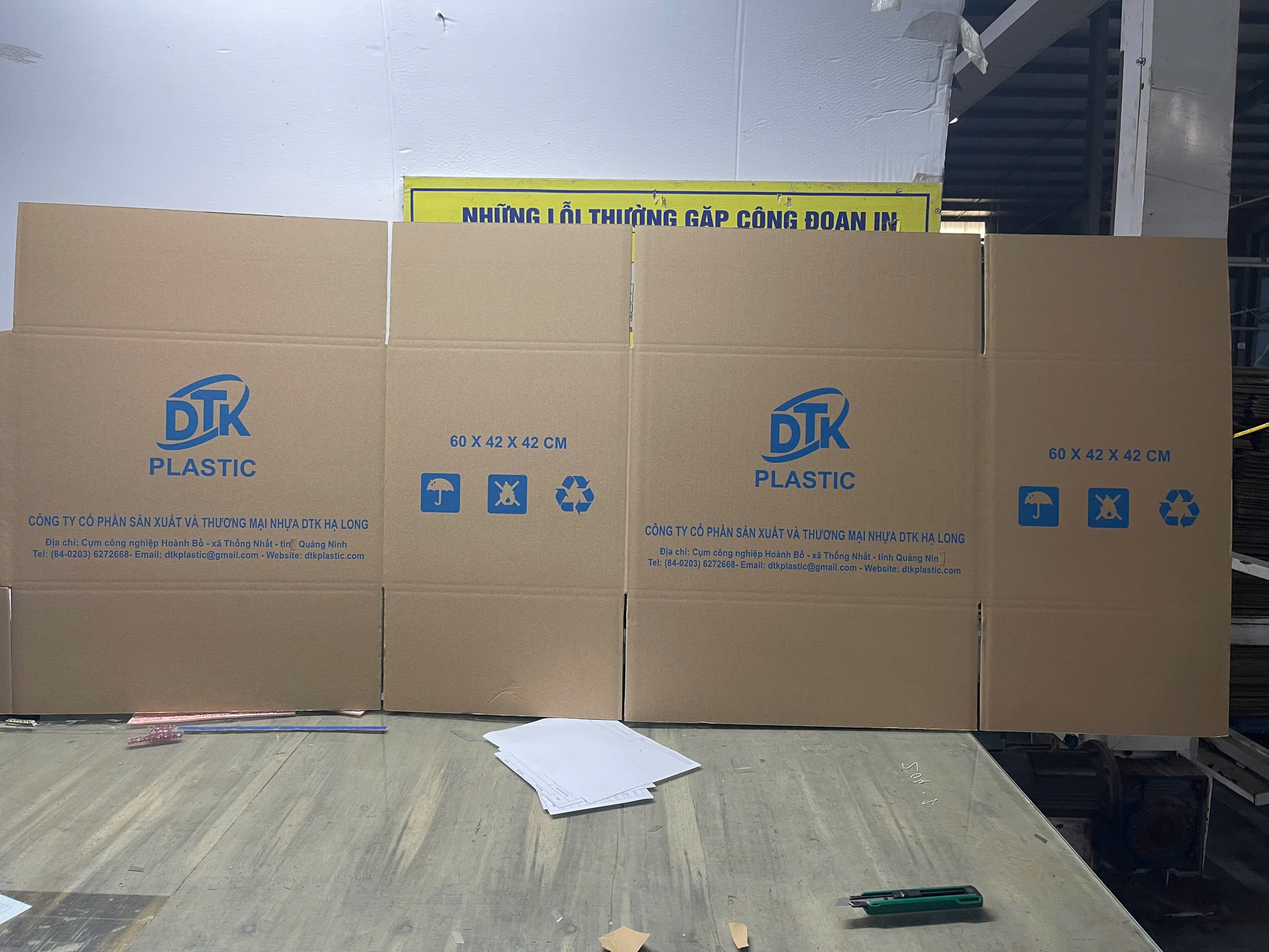box: (0, 203, 1242, 749)
